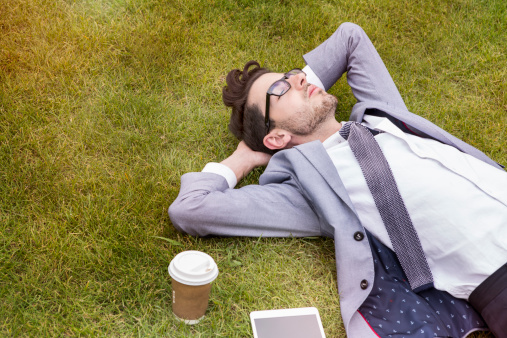deitado: (167, 24, 488, 333)
